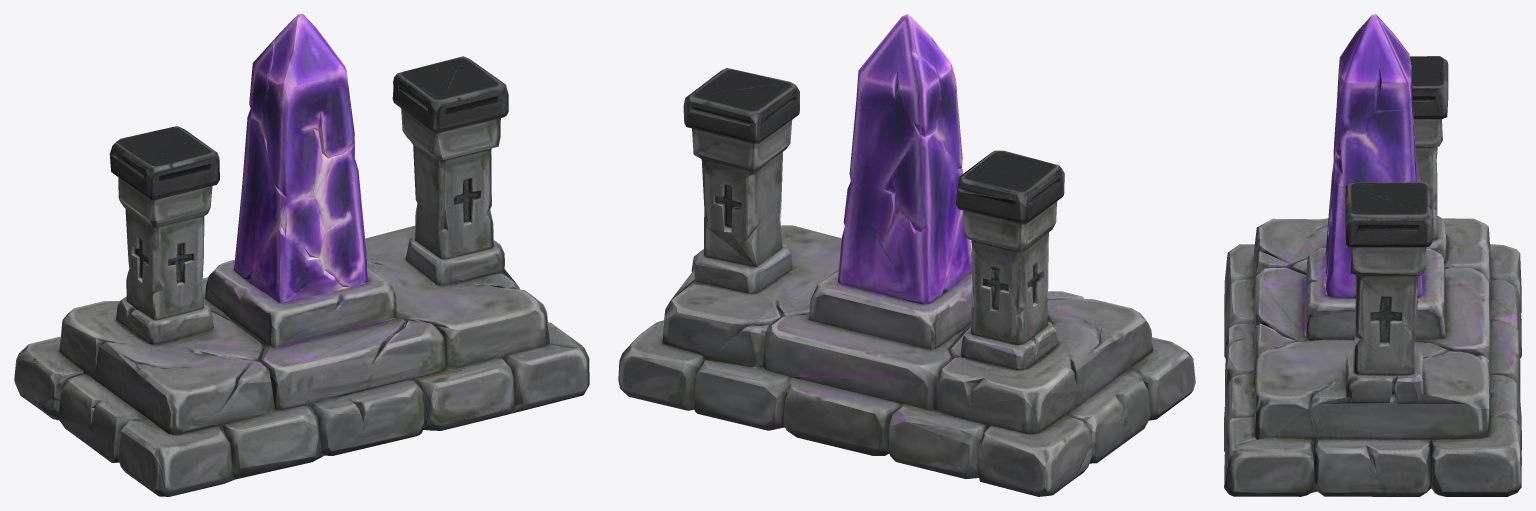
Rendered from shrine_glowing_3d.glb.
3 views of the same model, side by side, from view 1: azimuth 30°, elevation 25°; view 2: azimuth 150°, elevation 25°; view 3: azimuth 270°, elevation 25° (orthographic).
Visible parts, largest first — view 1: Mesh_0; view 2: Mesh_0; view 3: Mesh_0.
Boxes of the visible parts, left/top/right/bottom form: Mesh_0: left=14, top=14, right=589, bottom=496; Mesh_0: left=618, top=14, right=1195, bottom=496; Mesh_0: left=1224, top=14, right=1521, bottom=496.
Bounding box in the file's own units: 1.75 × 1.46 × 1.04.
1 material, 1 textured.
